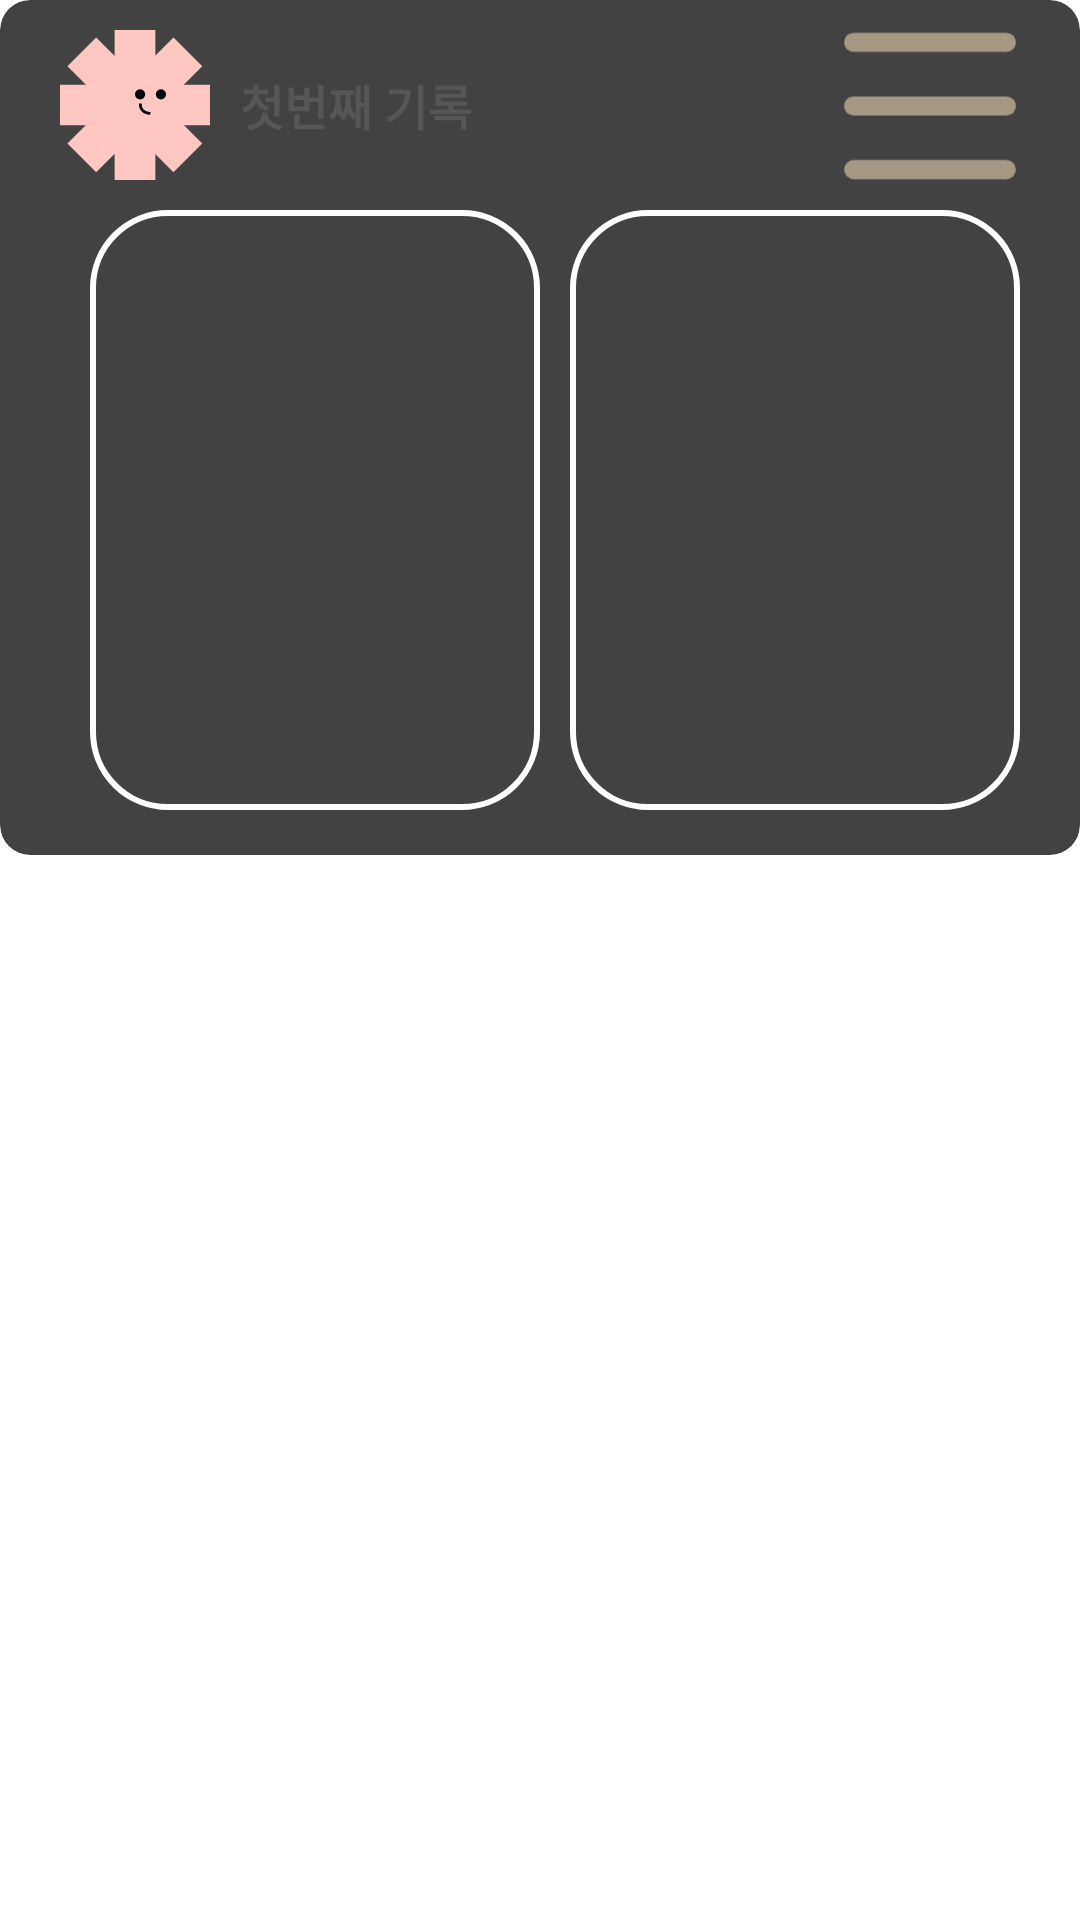

Locate icon controls on the screen. Image size 1080x1920, boxes as bbox(x1, y1, x2, y2).
illust happy: bbox(60, 30, 210, 180)
toggle: bbox(844, 32, 1016, 180)
